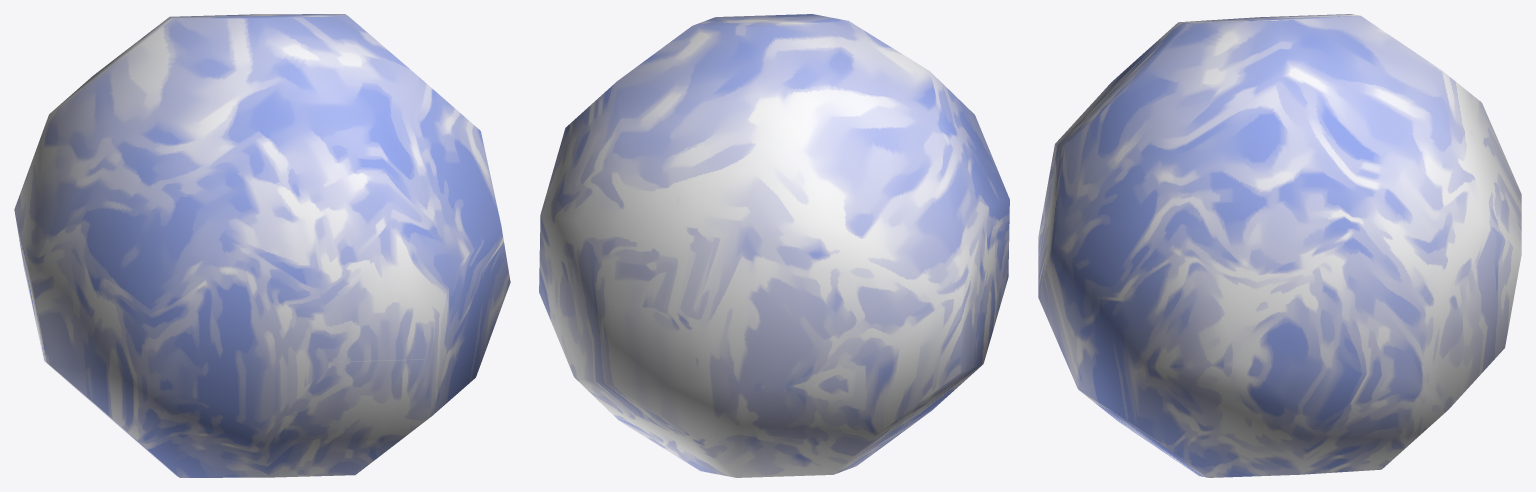
The model's file is ball01.fbx.
3 views of the same model, side by side, from view 1: azimuth 30°, elevation 25°; view 2: azimuth 150°, elevation 25°; view 3: azimuth 270°, elevation 25° (orthographic). The views are drawn at different scales.
Parts seen in each view (by area): view 1: ball01; view 2: ball01; view 3: ball01.
Part boxes in pixels (left/top/right/bottom): ball01: left=14, top=14, right=510, bottom=477; ball01: left=539, top=14, right=1009, bottom=477; ball01: left=1038, top=14, right=1521, bottom=477.
Size of the model in its own units: 3.95 by 4 by 3.89.
